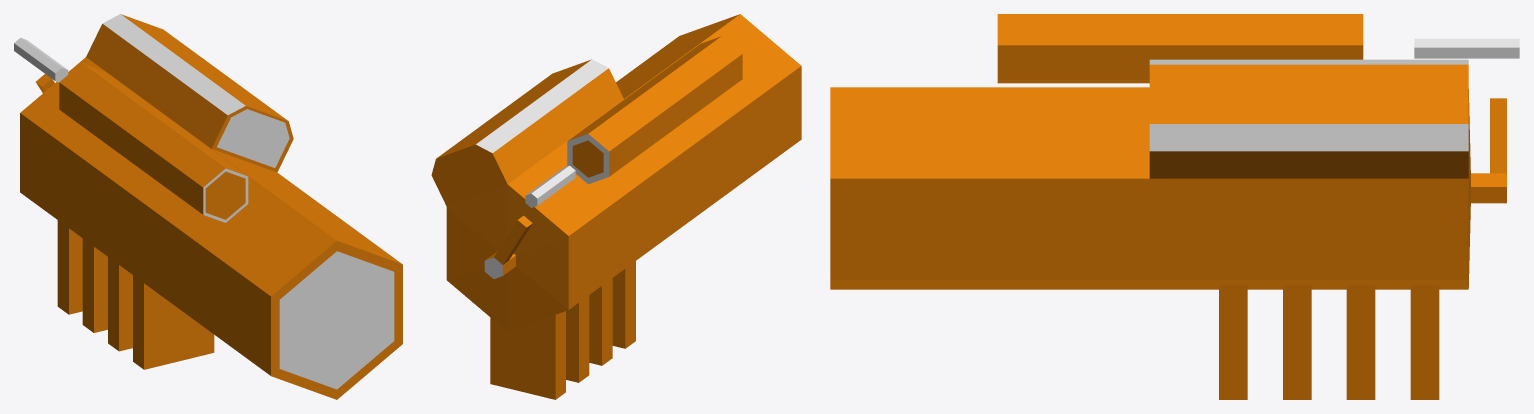
The model's file is tool.fbx.
The picture shows the model from 3 angles, left to right: view 1: azimuth 30°, elevation 25°; view 2: azimuth 150°, elevation 25°; view 3: azimuth 270°, elevation 25°; orthographic projection. The views are drawn at different scales.
Parts seen in each view (by area): view 1: Tool; view 2: Tool; view 3: Tool.
Part boxes in pixels (x1,y1,x2,y2): Tool: (14,14,402,399); Tool: (431,14,801,399); Tool: (830,14,1519,399).
Size of the model in its own units: 34.57 by 58.6 by 108.
